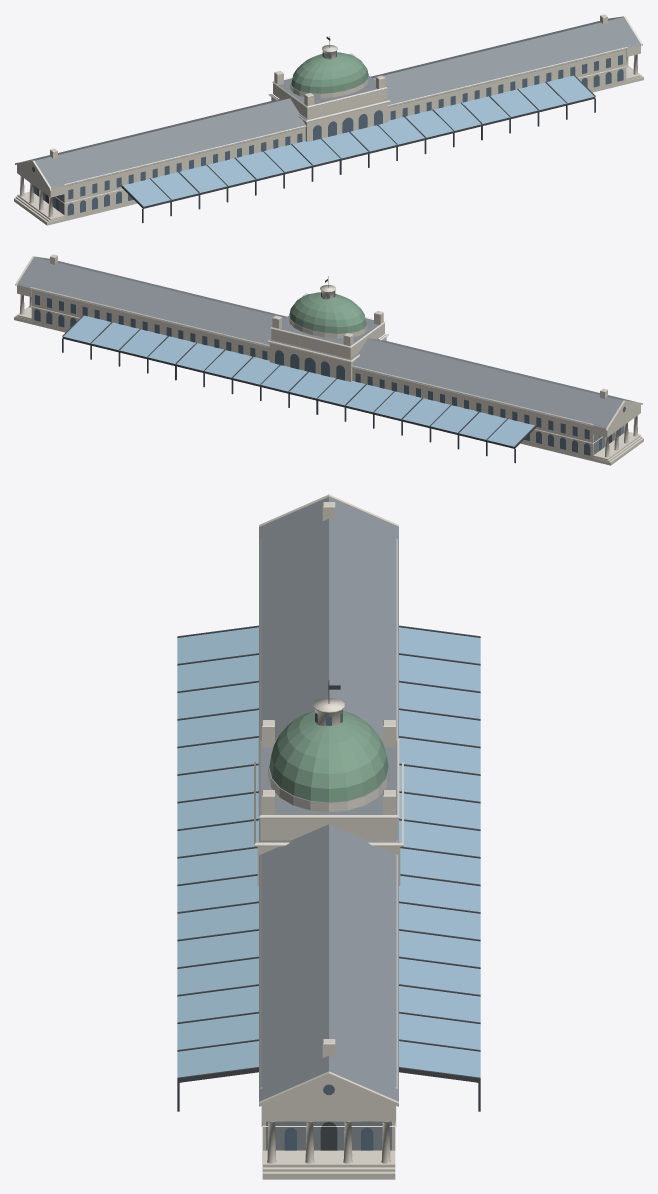
File: bos-quincy-market.glb
3 renders of one model, top to bottom at view 1: azimuth 30°, elevation 25°; view 2: azimuth 150°, elevation 25°; view 3: azimuth 270°, elevation 25°, orthographic. The views are drawn at different scales.
Parts seen in each view (by area): view 1: Quincy Market; view 2: Quincy Market; view 3: Quincy Market.
Boxes of the visible parts, <box> form: Quincy Market: <box>14,14,643,225</box>; Quincy Market: <box>14,254,643,465</box>; Quincy Market: <box>177,494,480,1179</box>.
Bounding box in the file's own units: 166 × 27.9 × 36.6.
